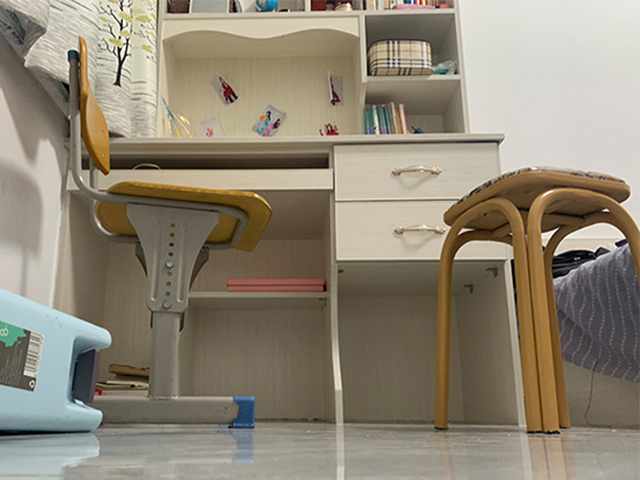bed: (59, 127, 503, 428)
stool: (67, 36, 273, 431), (433, 165, 640, 436)
trashcan: (1, 288, 112, 438)
